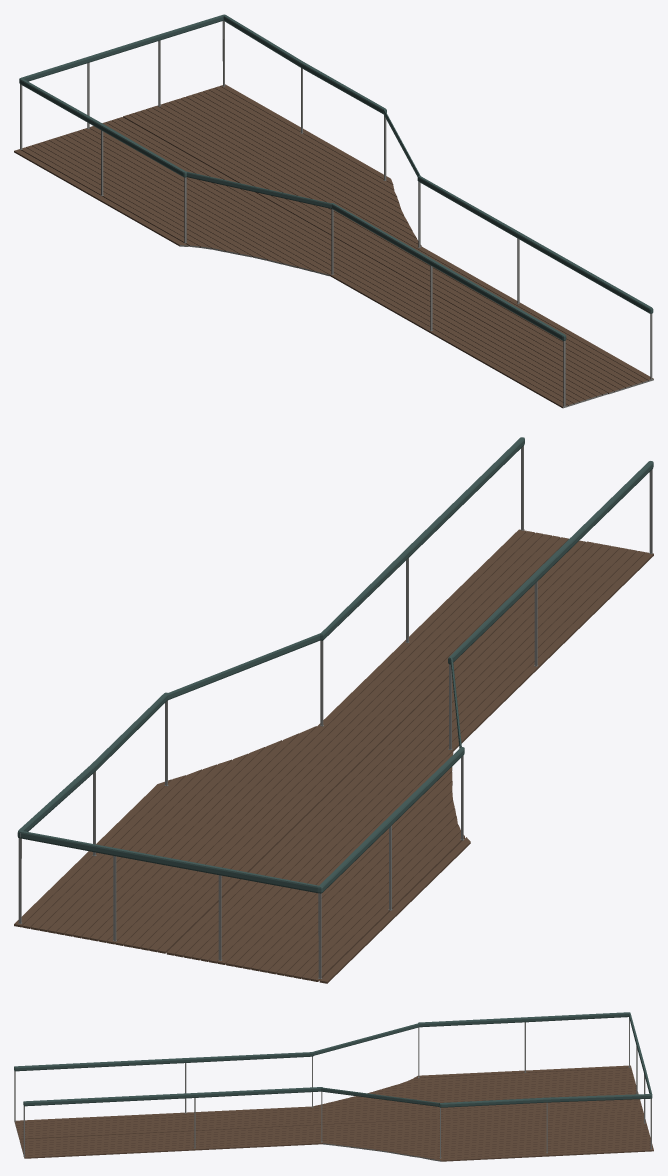
The model's file is WE01_BoardWalk_Seperated.fbx.
3 renders of one model, top to bottom at view 1: azimuth 30°, elevation 25°; view 2: azimuth 150°, elevation 25°; view 3: azimuth 270°, elevation 25°, orthographic. The views are drawn at different scales.
Visible parts, largest first — view 1: Plank, Banister, Banister2, Banister1; view 2: Plank, Banister2, Banister, Banister1; view 3: Plank, Banister2, Banister, Banister1.
Boxes of the visible parts, x1=… form: Plank: x1=14, y1=84, x2=653, y2=408; Banister: x1=19, y1=77, x2=566, y2=406; Banister2: x1=222, y1=14, x2=653, y2=379; Banister1: x1=21, y1=15, x2=223, y2=128; Plank: x1=14, y1=529, x2=653, y2=983; Banister2: x1=17, y1=437, x2=524, y2=923; Banister: x1=317, y1=461, x2=653, y2=979; Banister1: x1=20, y1=831, x2=318, y2=960; Plank: x1=14, y1=1065, x2=653, y2=1161; Banister2: x1=23, y1=1087, x2=652, y2=1158; Banister: x1=14, y1=1012, x2=630, y2=1121; Banister1: x1=628, y1=1013, x2=651, y2=1123.
Size of the model in its own units: 10.03 by 2.76 by 28.44.
